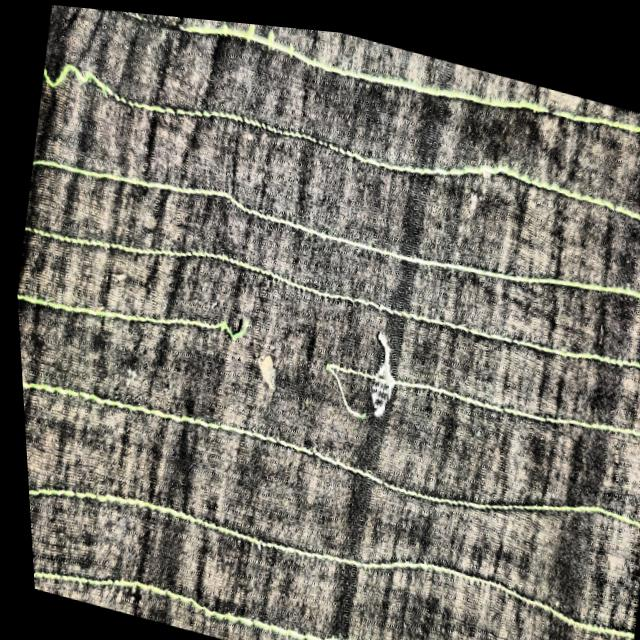Stitch: (296, 291, 422, 438), (193, 275, 298, 411)
